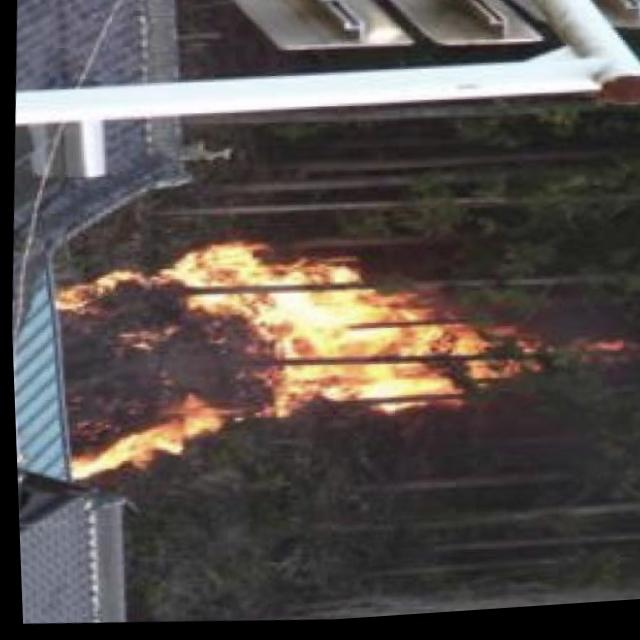Fire: (70, 223, 542, 503)
